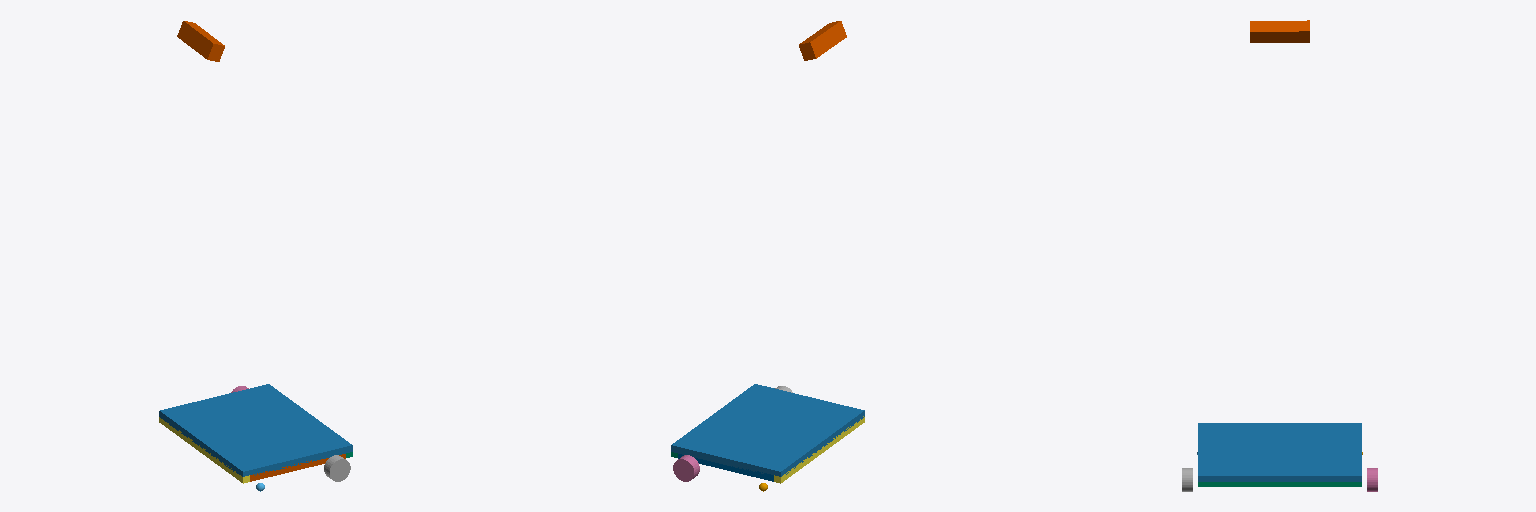
The robot description file, URDF, robot "jdamr_cube":
<?xml version='1.0' encoding='utf-8'?>
<robot name="jdamr_cube">
  <link name="base_footprint">
    <inertial>
      <origin xyz="0 0 0" />
      <mass value="0.02" />
      <inertia ixx=".0002" iyy=".0002" izz=".0002" ixy="0" ixz="0" iyz="0" />
    </inertial>
  </link>
  <link name="base_link">
    <inertial>
      <origin xyz="-0.10 0 0.05" />
      <mass value="8.0" />
      <inertia ixx=".08" iyy=".06" izz=".11" ixy="0" ixz="0" iyz="0" />
    </inertial>
    <visual>
      <origin xyz="-0.105 0 0.065" />
      <geometry>
        <box size="0.34 0.45 0.02" />
      </geometry>
      <material name="jdamr_blue">
        <color rgba=".15 .5 .7 1" />
      </material>
    </visual>
  </link>
  <joint name="base_joint" type="fixed">
    <parent link="base_footprint" />
    <child link="base_link" />
    <origin xyz="0 0 0" rpy="0 0 0" />
  </joint>
  <link name="lower_front_rail_link">
    <visual>
      <geometry>
        <box size="0.020 0.450 0.020" />
      </geometry>
    </visual>
    <collision>
      <geometry>
        <box size="0.020 0.450 0.020" />
      </geometry>
    </collision>
    <inertial>
      <origin xyz="0 0 0" />
      <mass value="0.02" />
      <inertia ixx=".0002" iyy=".0002" izz=".0002" ixy="0" ixz="0" iyz="0" />
    </inertial>
  </link>
  <joint name="lower_front_rail_joint" type="fixed">
    <parent link="base_link" />
    <child link="lower_front_rail_link" />
    <origin xyz="0.055 0 0.050" rpy="0 0 0" />
  </joint>
  <link name="lower_rear_rail_link">
    <visual>
      <geometry>
        <box size="0.020 0.450 0.020" />
      </geometry>
    </visual>
    <collision>
      <geometry>
        <box size="0.020 0.450 0.020" />
      </geometry>
    </collision>
    <inertial>
      <origin xyz="0 0 0" />
      <mass value="0.02" />
      <inertia ixx=".0002" iyy=".0002" izz=".0002" ixy="0" ixz="0" iyz="0" />
    </inertial>
  </link>
  <joint name="lower_rear_rail_joint" type="fixed">
    <parent link="base_link" />
    <child link="lower_rear_rail_link" />
    <origin xyz="-0.265 0 0.050" rpy="0 0 0" />
  </joint>
  <link name="lower_left_rail_link">
    <visual>
      <geometry>
        <box size="0.300 0.020 0.020" />
      </geometry>
    </visual>
    <collision>
      <geometry>
        <box size="0.300 0.020 0.020" />
      </geometry>
    </collision>
    <inertial>
      <origin xyz="0 0 0" />
      <mass value="0.02" />
      <inertia ixx=".0002" iyy=".0002" izz=".0002" ixy="0" ixz="0" iyz="0" />
    </inertial>
  </link>
  <joint name="lower_left_rail_joint" type="fixed">
    <parent link="base_link" />
    <child link="lower_left_rail_link" />
    <origin xyz="-0.105 0.215 0.050" rpy="0 0 0" />
  </joint>
  <link name="lower_right_rail_link">
    <visual>
      <geometry>
        <box size="0.300 0.020 0.020" />
      </geometry>
    </visual>
    <collision>
      <geometry>
        <box size="0.300 0.020 0.020" />
      </geometry>
    </collision>
    <inertial>
      <origin xyz="0 0 0" />
      <mass value="0.02" />
      <inertia ixx=".0002" iyy=".0002" izz=".0002" ixy="0" ixz="0" iyz="0" />
    </inertial>
  </link>
  <joint name="lower_right_rail_joint" type="fixed">
    <parent link="base_link" />
    <child link="lower_right_rail_link" />
    <origin xyz="-0.105 -0.215 0.050" rpy="0 0 0" />
  </joint>
  <link name="left_wheel_link">
    <visual>
      <origin rpy="1.5707963268 0 0" />
      <geometry>
        <cylinder radius="0.0329" length="0.030" />
      </geometry>
    </visual>
    <collision>
      <origin rpy="1.5707963268 0 0" />
      <geometry>
        <cylinder radius="0.0329" length="0.030" />
      </geometry>
    </collision>
    <inertial>
      <origin xyz="0 0 0" />
      <mass value="0.15" />
      <inertia ixx=".0002" iyy=".0002" izz=".0002" ixy="0" ixz="0" iyz="0" />
    </inertial>
  </link>
  <joint name="left_wheel_joint" type="continuous">
    <parent link="base_link" />
    <child link="left_wheel_link" />
    <origin xyz="0 0.255 0.0329" rpy="0 0 0" />
    <axis xyz="0 1 0" />
  </joint>
  <link name="right_wheel_link">
    <visual>
      <origin rpy="1.5707963268 0 0" />
      <geometry>
        <cylinder radius="0.0329" length="0.030" />
      </geometry>
    </visual>
    <collision>
      <origin rpy="1.5707963268 0 0" />
      <geometry>
        <cylinder radius="0.0329" length="0.030" />
      </geometry>
    </collision>
    <inertial>
      <origin xyz="0 0 0" />
      <mass value="0.15" />
      <inertia ixx=".0002" iyy=".0002" izz=".0002" ixy="0" ixz="0" iyz="0" />
    </inertial>
  </link>
  <joint name="right_wheel_joint" type="continuous">
    <parent link="base_link" />
    <child link="right_wheel_link" />
    <origin xyz="0 -0.255 0.0329" rpy="0 0 0" />
    <axis xyz="0 1 0" />
  </joint>
  <link name="rear_left_caster_contact_projection">
    <inertial>
      <origin xyz="0 0 0" />
      <mass value="0.02" />
      <inertia ixx=".0002" iyy=".0002" izz=".0002" ixy="0" ixz="0" iyz="0" />
    </inertial>
    <visual>
      <origin xyz="0 0 .012" />
      <geometry>
        <sphere radius=".012" />
      </geometry>
    </visual>
    <collision>
      <origin xyz="0 0 .012" />
      <geometry>
        <sphere radius=".012" />
      </geometry>
    </collision>
  </link>
  <joint name="rear_left_caster_contact_joint" type="fixed">
    <parent link="base_link" />
    <child link="rear_left_caster_contact_projection" />
    <origin xyz="-0.215 0.215 0" rpy="0 0 0" />
  </joint>
  <link name="rear_right_caster_contact_projection">
    <inertial>
      <origin xyz="0 0 0" />
      <mass value="0.02" />
      <inertia ixx=".0002" iyy=".0002" izz=".0002" ixy="0" ixz="0" iyz="0" />
    </inertial>
    <visual>
      <origin xyz="0 0 .012" />
      <geometry>
        <sphere radius=".012" />
      </geometry>
    </visual>
    <collision>
      <origin xyz="0 0 .012" />
      <geometry>
        <sphere radius=".012" />
      </geometry>
    </collision>
  </link>
  <joint name="rear_right_caster_contact_joint" type="fixed">
    <parent link="base_link" />
    <child link="rear_right_caster_contact_projection" />
    <origin xyz="-0.215 -0.215 0" rpy="0 0 0" />
  </joint>
  <link name="laser_link">
    <inertial>
      <origin xyz="0 0 0" />
      <mass value="0.02" />
      <inertia ixx=".0002" iyy=".0002" izz=".0002" ixy="0" ixz="0" iyz="0" />
    </inertial>
  </link>
  <joint name="laser_joint" type="fixed">
    <parent link="base_link" />
    <child link="laser_link" />
    <origin xyz="-0.010 0 0.150" rpy="0 0 3.141592653589793" />
  </joint>
  <link name="imu_link">
    <inertial>
      <origin xyz="0 0 0" />
      <mass value="0.02" />
      <inertia ixx=".0002" iyy=".0002" izz=".0002" ixy="0" ixz="0" iyz="0" />
    </inertial>
  </link>
  <joint name="imu_joint" type="fixed">
    <parent link="base_link" />
    <child link="imu_link" />
    <origin xyz="0 0 0" rpy="3.141592653589793 0 1.5707963267948966" />
  </joint>
  <link name="upper_tabletop_surface_frame">
    <inertial>
      <origin xyz="0 0 0" />
      <mass value="0.02" />
      <inertia ixx=".0002" iyy=".0002" izz=".0002" ixy="0" ixz="0" iyz="0" />
    </inertial>
  </link>
  <joint name="upper_tabletop_surface_joint" type="fixed">
    <parent link="base_link" />
    <child link="upper_tabletop_surface_frame" />
    <origin xyz="0 0 0.720" rpy="0 0 0" />
  </joint>
  <link name="camera_link">
    <visual>
      <geometry>
        <box size="0.040 0.165 0.048" />
      </geometry>
    </visual>
    <inertial>
      <origin xyz="0 0 0" />
      <mass value="0.02" />
      <inertia ixx=".0002" iyy=".0002" izz=".0002" ixy="0" ixz="0" iyz="0" />
    </inertial>
  </link>
  <joint name="camera_mount_joint" type="fixed">
    <parent link="upper_tabletop_surface_frame" />
    <child link="camera_link" />
    <origin xyz="-0.275 0 0.540" rpy="0.011934068034722573 0.41246669799099545 -0.0007507445375463481" />
  </joint>
  <gazebo reference="rear_left_caster_contact_projection">
    <mu1>.001</mu1>
    <mu2>.001</mu2>
  </gazebo>
  <gazebo reference="rear_left_caster_contact_joint">
    <preserveFixedJoint>true</preserveFixedJoint>
  </gazebo>
  <gazebo reference="rear_right_caster_contact_projection">
    <mu1>.001</mu1>
    <mu2>.001</mu2>
  </gazebo>
  <gazebo reference="rear_right_caster_contact_joint">
    <preserveFixedJoint>true</preserveFixedJoint>
  </gazebo>
  <gazebo>
    <plugin filename="gz-sim-diff-drive-system" name="gz::sim::systems::DiffDrive">
      <left_joint>left_wheel_joint</left_joint>
      <right_joint>right_wheel_joint</right_joint>
      <wheel_separation>.510</wheel_separation>
      <wheel_radius>.0329</wheel_radius>
      <topic>/cmd_vel</topic>
      <odom_topic>/odom</odom_topic>
      <tf_topic>/tf</tf_topic>
      <frame_id>odom</frame_id>
      <child_frame_id>base_footprint</child_frame_id>
      <odom_publish_frequency>50</odom_publish_frequency>
      <max_linear_acceleration>.35</max_linear_acceleration>
      <max_angular_acceleration>1.5</max_angular_acceleration>
    </plugin>
  </gazebo>
  <gazebo>
    <plugin filename="gz-sim-joint-state-publisher-system" name="gz::sim::systems::JointStatePublisher">
      <topic>/joint_states</topic>
      <joint_name>left_wheel_joint</joint_name>
      <joint_name>right_wheel_joint</joint_name>
    </plugin>
  </gazebo>
  <gazebo reference="laser_link">
    <sensor name="g4_sim_lidar" type="gpu_lidar">
      <always_on>true</always_on>
      <update_rate>10</update_rate>
      <topic>/scan</topic>
      <gz_frame_id>laser_link</gz_frame_id>
      <visualize>false</visualize>
      <lidar>
        <scan>
          <horizontal>
            <samples>720</samples>
            <resolution>1</resolution>
            <min_angle>-3.141592653589793</min_angle>
            <max_angle>3.141592653589793</max_angle>
          </horizontal>
        </scan>
        <range>
          <min>.28</min>
          <max>16</max>
          <resolution>.01</resolution>
        </range>
      </lidar>
    </sensor>
  </gazebo>
</robot>

--- Render facts (derived) ---
3 views of the same robot in one strip: view 1: azimuth 30°, elevation 25°; view 2: azimuth 150°, elevation 25°; view 3: azimuth 270°, elevation 25° (orthographic).
Robot: jdamr_cube — 14 links, 13 joints (2 continuous, 11 fixed); root link base_footprint; default pose: all joints at 0.
Visible links, largest first — view 1: base_link, camera_link, right_wheel_link; view 2: base_link, camera_link, left_wheel_link, lower_rear_rail_link; view 3: base_link, camera_link, lower_front_rail_link.
Link boxes in pixels (left/top/right/bottom): base_link: left=159, top=384, right=352, bottom=476; camera_link: left=177, top=21, right=224, bottom=61; right_wheel_link: left=324, top=455, right=350, bottom=481; base_link: left=671, top=384, right=864, bottom=476; camera_link: left=799, top=21, right=846, bottom=60; left_wheel_link: left=673, top=455, right=699, bottom=481; lower_rear_rail_link: left=774, top=416, right=864, bottom=483; base_link: left=1198, top=423, right=1361, bottom=481; camera_link: left=1250, top=20, right=1309, bottom=42; lower_front_rail_link: left=1198, top=482, right=1361, bottom=486.
Bounding box of the posed robot: 0.3684 × 0.54 × 1.29 m (x, y, z).
Geometry: primitives only (box / cylinder / sphere), no mesh files.
